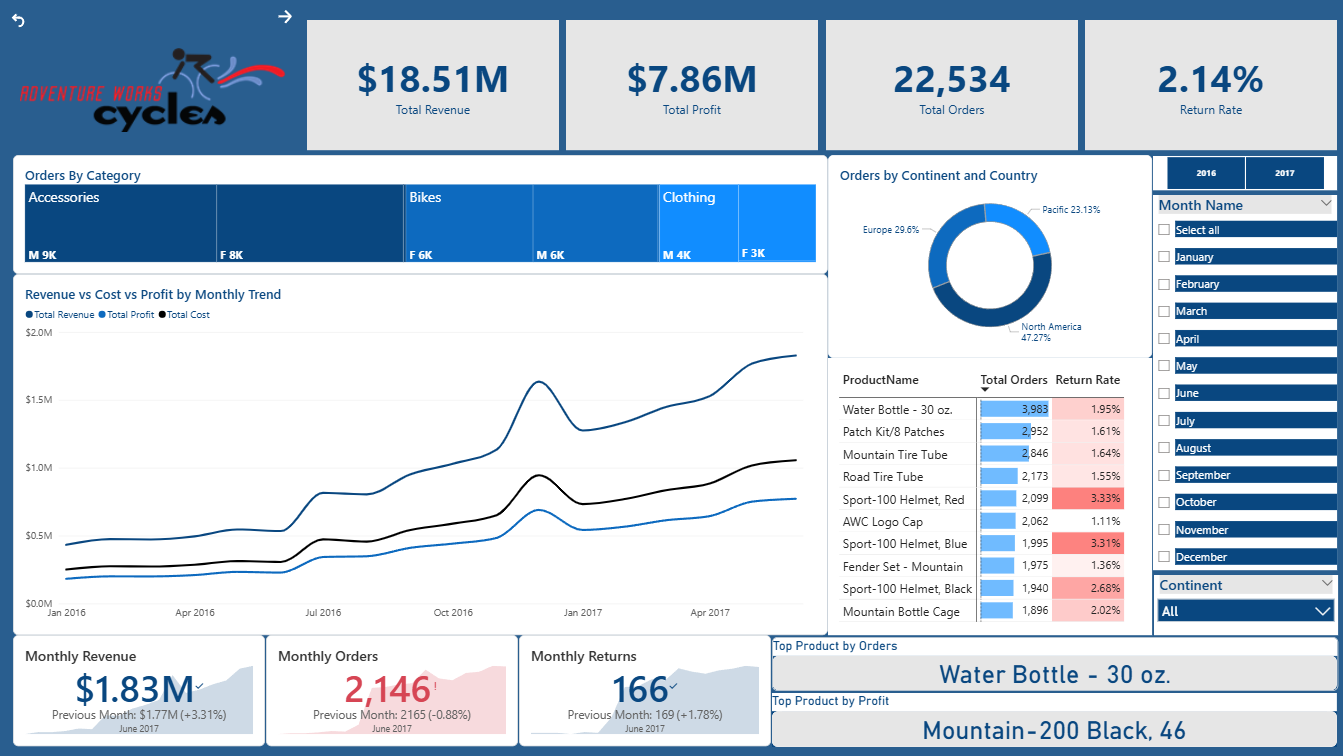

The page's visual inventory and layout, read from the dashboard file:
{"tool":"powerbi","page":{"name":"Executive Summary","canvas":[1920,1080],"ordinal":0},"visuals":[{"type":"card","fields":{"Values":["Returns Data.Return Rate"]},"box":[1545.7,16,360,185.7],"z":0,"group":"g1"},{"type":"image","box":[28.6,42.9,382.9,160],"z":0},{"type":"card","fields":{"Values":["Sales Data.Total Orders"]},"box":[1173.8,16,360,185.7],"z":1000,"group":"g1"},{"type":"treemap","title":"Orders By Category","fields":{"Details":["Customers_lookup.Gender"],"Group":["Product_Categories_Lookup.CategoryName"],"Values":["Sales Data.Total Orders"]},"box":[12.9,211.4,1210,170],"z":1000},{"type":"card","fields":{"Values":["Sales Data.Total Profit"]},"box":[801.9,16,360,185.7],"z":2000,"group":"g1"},{"type":"donutChart","title":"Orders by Continent and Country","fields":{"Category":["Territories_Lookup.Continent"],"Y":["Sales Data.Total Orders"]},"box":[1224.3,211.4,461.4,290],"z":2000},{"type":"card","fields":{"Values":["Sales Data.Total Revenue"]},"box":[430,16,360,185.7],"z":3000,"group":"g1"},{"type":"pivotTable","fields":{"Rows":["Product_Categories_Lookup.CategoryName","Product_Subcategories_Lookup.SubcategoryName","Products_Lookup.ProductName"],"Values":["Sales Data.Total Orders","Returns Data.Return Rate"]},"box":[1224.3,501.4,461.4,395.7],"z":3000},{"type":"lineChart","title":"Revenue vs Cost vs  Profit by Monthly Trend","fields":{"Category":["Calendar_Lookup.Start of Month"],"Y":["Sales Data.Total Revenue","Sales Data.Total Profit","Sales Data.Total Cost"]},"box":[12.9,384.3,1210,515.7],"z":4000},{"type":"kpi","title":"Monthly Revenue","fields":{"Goal":["Sales Data.Prev.Month Revenue"],"Indicator":["Sales Data.Total Revenue"],"TrendLine":["Calendar_Lookup.Start of Month"]},"box":[12.9,901.4,360,158.6],"z":5000},{"type":"kpi","title":"Monthly Orders","fields":{"Goal":["Sales Data.Prev Month Orders"],"Indicator":["Sales Data.Total Orders"],"TrendLine":["Calendar_Lookup.Start of Month"]},"box":[374.3,901.4,360,158.6],"z":6000},{"type":"kpi","title":"Monthly Returns","fields":{"Goal":["Returns Data.Prev Month Return"],"Indicator":["Returns Data.Total Retuens"],"TrendLine":["Calendar_Lookup.Start of Month"]},"box":[735.7,901.4,360,158.6],"z":7000},{"type":"cardVisual","title":"Top Product by Orders","fields":{"Data":["Min(Products_Lookup.ProductName)"]},"box":[1098.6,902.9,808.6,77.1],"z":8000},{"type":"cardVisual","title":"Top Product by Profit","fields":{"Data":["Min(Products_Lookup.ProductName)"]},"box":[1098.6,981.4,807.1,77.1],"z":9000},{"type":"slicer","title":"Continent","fields":{"Values":["Territories_Lookup.Continent"]},"box":[1687.1,812.9,220,85.7],"z":10000},{"type":"slicer","title":"Months","fields":{"Values":["Calendar_Lookup.Month Name"]},"box":[1687.1,271.4,218.6,535.7],"z":11000},{"type":"slicer","fields":{"Values":["Calendar_Lookup.Year"]},"box":[1688.6,214.3,218.6,48.6],"z":12000},{"type":"group","id":"g1","title":"Group 1","box":[430,16,1475.7,185.7],"z":13000},{"type":"actionButton","box":[371.4,0,62.9,48.6],"z":14000},{"type":"actionButton","box":[0,0,51.9,58.5],"z":15000}]}

Visuals, with their boxes in screenshot pixels (x1, y1, x2, y2), scaled from the page's 1920x1080 canvas onto the 1343x756 screenshot:
card - Returns Data.Return Rate: [x1=1081, y1=11, x2=1333, y2=141]
image: [x1=20, y1=30, x2=288, y2=142]
card - Sales Data.Total Orders: [x1=821, y1=11, x2=1073, y2=141]
"Orders By Category" treemap: [x1=9, y1=148, x2=855, y2=267]
card - Sales Data.Total Profit: [x1=561, y1=11, x2=813, y2=141]
"Orders by Continent and Country" donutChart: [x1=856, y1=148, x2=1179, y2=351]
card - Sales Data.Total Revenue: [x1=301, y1=11, x2=553, y2=141]
pivotTable - Product_Categories_Lookup.CategoryName x Product_Subcategories_Lookup.SubcategoryName: [x1=856, y1=351, x2=1179, y2=628]
"Revenue vs Cost vs  Profit by Monthly Trend" lineChart: [x1=9, y1=269, x2=855, y2=630]
"Monthly Revenue" kpi: [x1=9, y1=631, x2=261, y2=742]
"Monthly Orders" kpi: [x1=262, y1=631, x2=514, y2=742]
"Monthly Returns" kpi: [x1=515, y1=631, x2=766, y2=742]
"Top Product by Orders" cardVisual: [x1=768, y1=632, x2=1334, y2=686]
"Top Product by Profit" cardVisual: [x1=768, y1=687, x2=1333, y2=741]
"Continent" slicer: [x1=1180, y1=569, x2=1334, y2=629]
"Months" slicer: [x1=1180, y1=190, x2=1333, y2=565]
slicer - Calendar_Lookup.Year: [x1=1181, y1=150, x2=1334, y2=184]
"Group 1" group: [x1=301, y1=11, x2=1333, y2=141]
actionButton: [x1=260, y1=0, x2=304, y2=34]
actionButton: [x1=0, y1=0, x2=36, y2=41]
